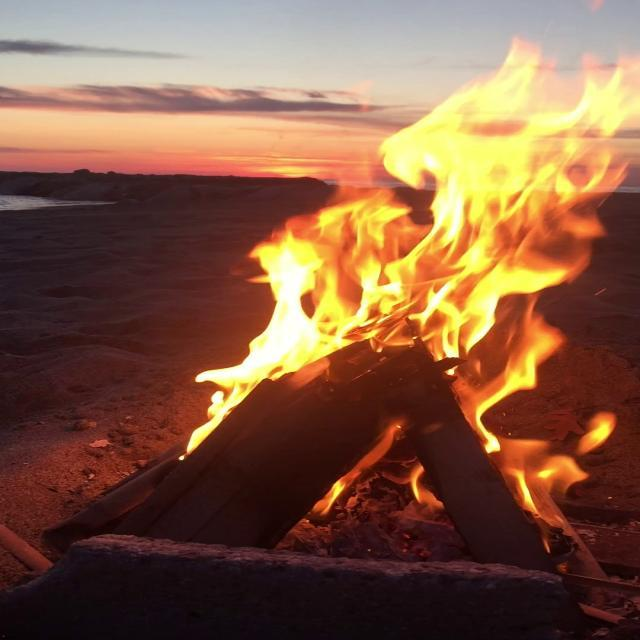Fire: (198, 26, 635, 516)
